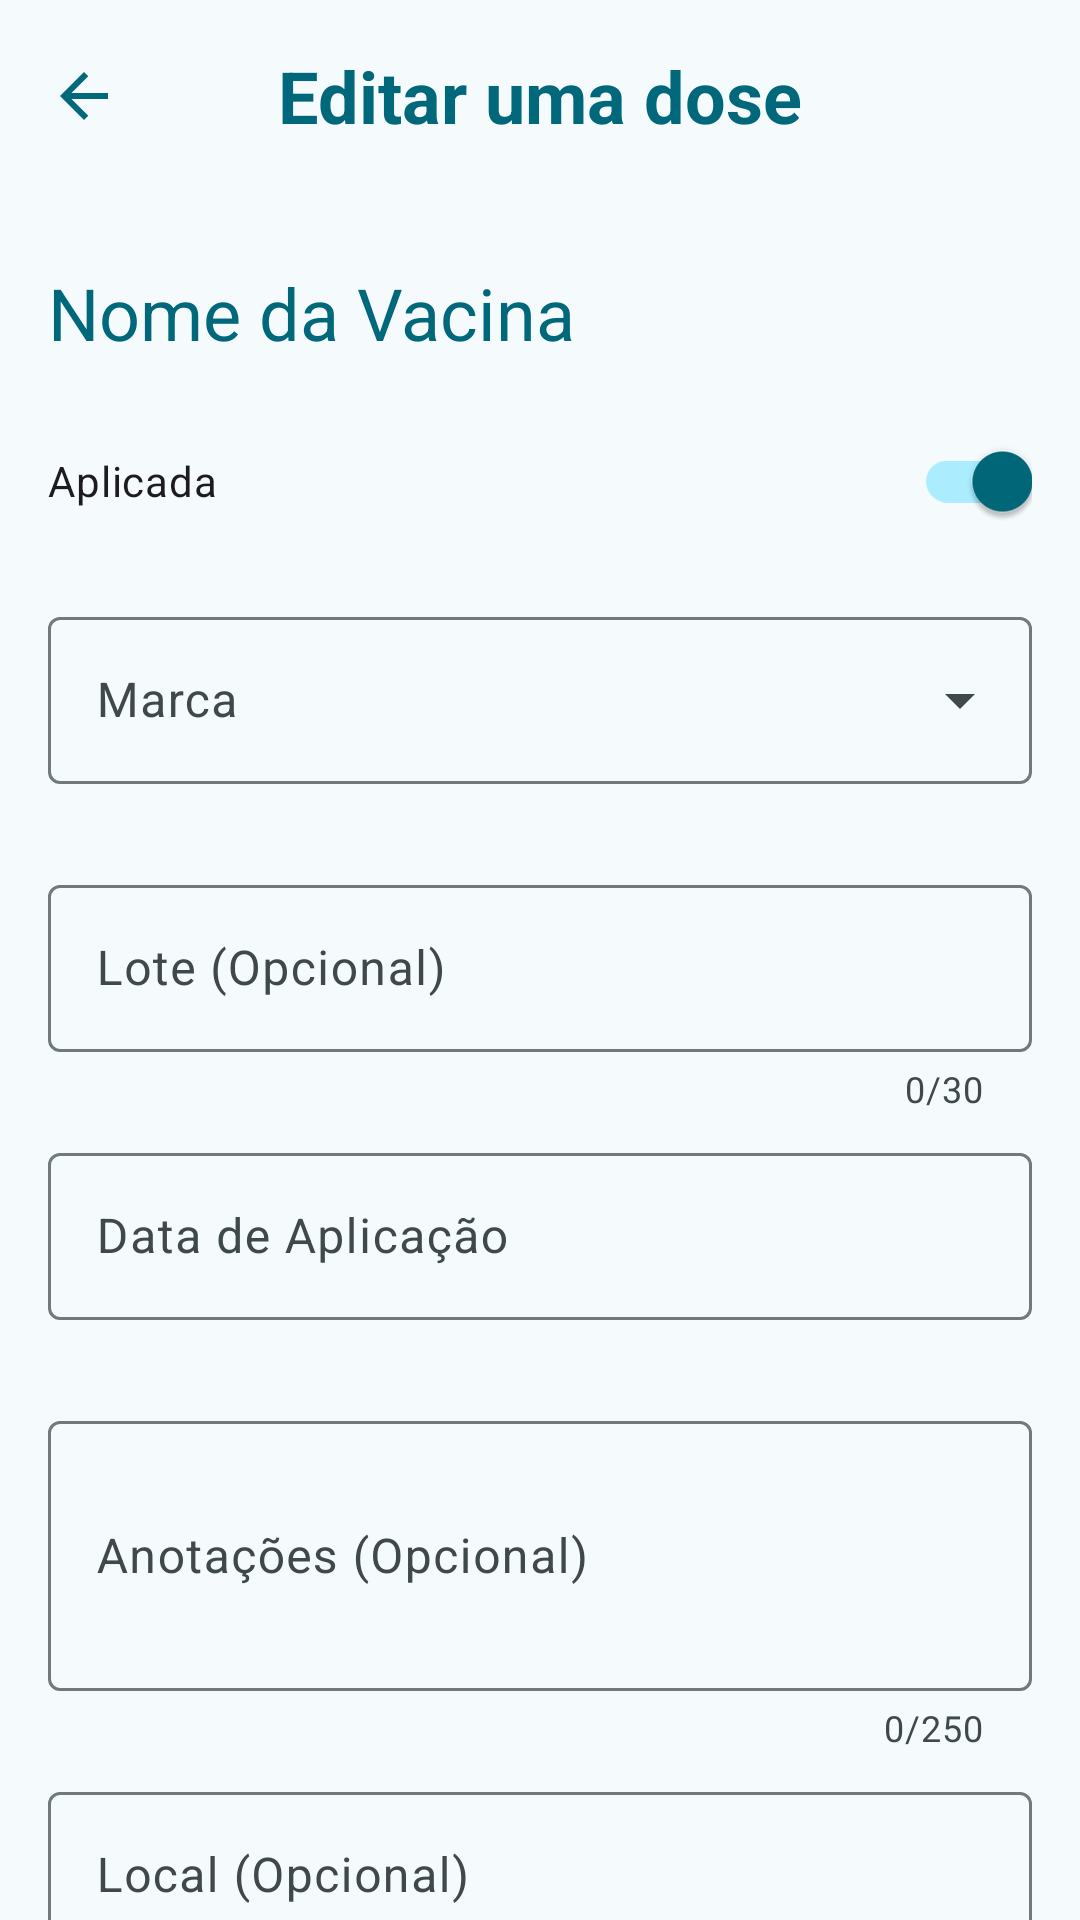

Screen size 1080 x 1920. Icon name, then its center in pixels as [x,y]:
arrow back: [84,96]
